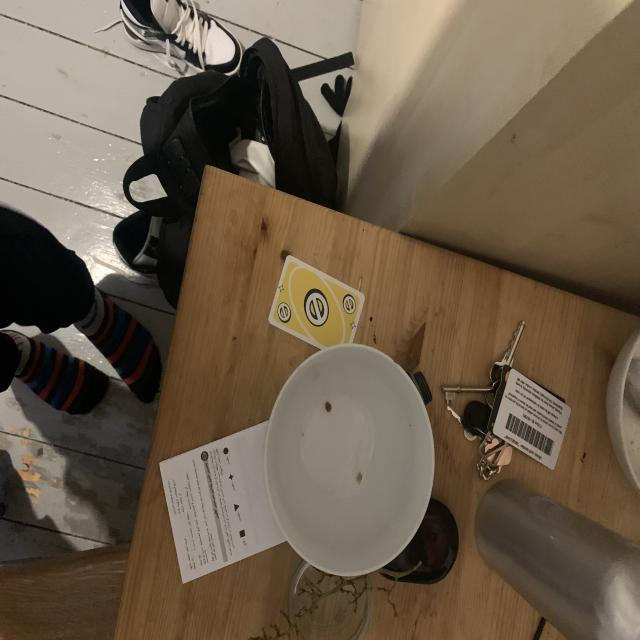lyellowskip-20: (340, 290, 360, 320)
